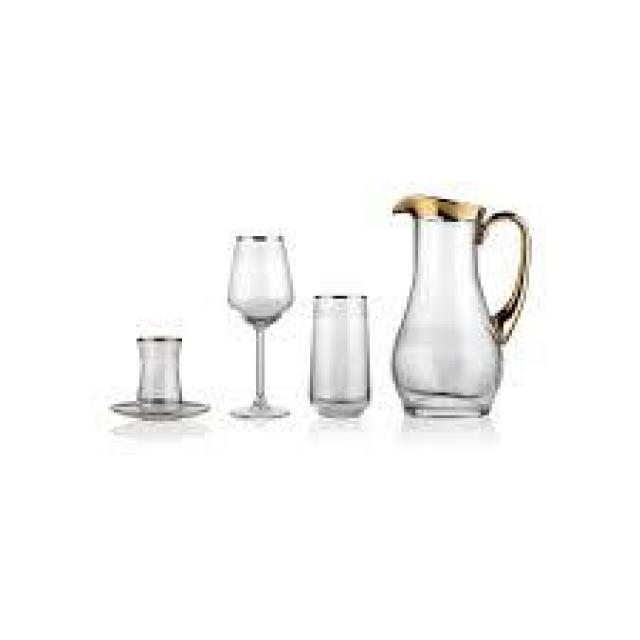non-organic waste: (387, 191, 535, 421), (224, 226, 298, 423), (107, 332, 212, 422), (307, 292, 373, 419)
